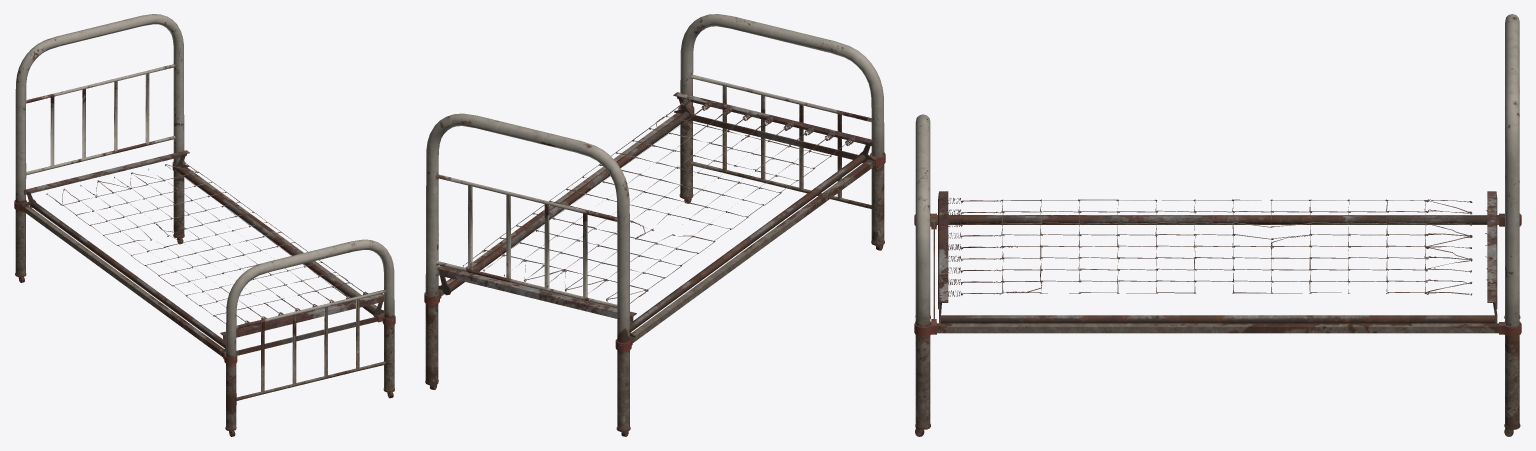
Rendered from old_bed_frame.glb.
3 renders of one model, left to right at view 1: azimuth 30°, elevation 25°; view 2: azimuth 150°, elevation 25°; view 3: azimuth 270°, elevation 25°, orthographic. The views are drawn at different scales.
Visible parts, largest first — view 1: old_bed_frame; view 2: old_bed_frame; view 3: old_bed_frame.
Part boxes in pixels (x1,y1,x2,y2): old_bed_frame: (14, 14, 395, 436); old_bed_frame: (424, 14, 885, 436); old_bed_frame: (914, 14, 1521, 436).
Bounding box in the file's own units: 0.9047 × 1.2 × 2.
1 material, 1 textured.
